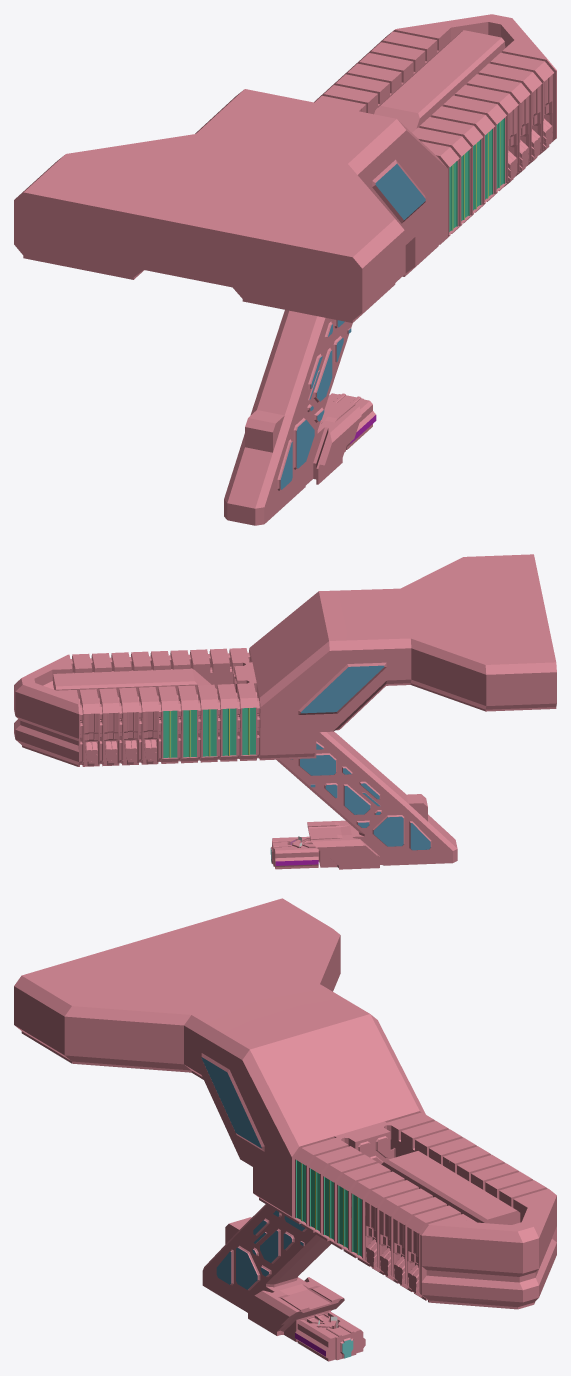
Rendered from m1_assault_1.fbx.
3 renders of one model, top to bottom at view 1: azimuth 30°, elevation 25°; view 2: azimuth 150°, elevation 25°; view 3: azimuth 270°, elevation 25°, orthographic. The views are drawn at different scales.
Parts seen in each view (by area): view 1: bsp_b; view 2: bsp_b; view 3: bsp_b.
Boxes of the visible parts, <box> form: bsp_b: <box>14,14,556,525</box>; bsp_b: <box>14,554,556,869</box>; bsp_b: <box>14,898,556,1361</box>.
Bounding box in the file's own units: 8864 × 10506 × 5487.
